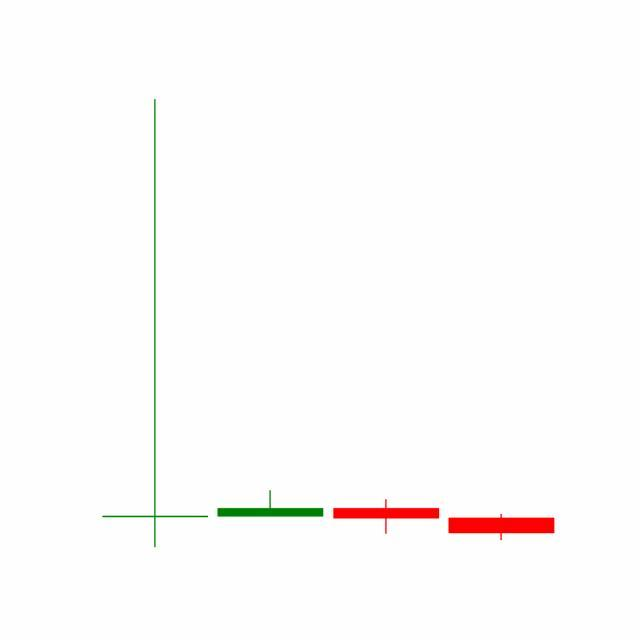Spinning Top: (329, 498, 445, 535)
